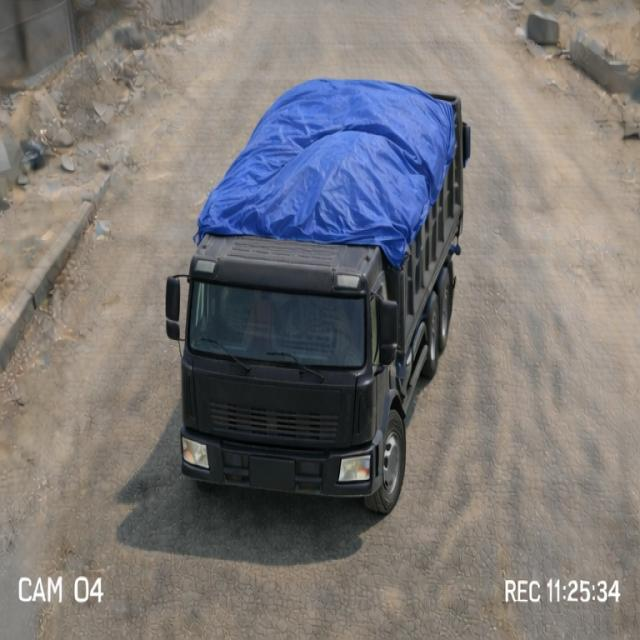trailer: (184, 73, 473, 275)
truck: (161, 55, 483, 509)
